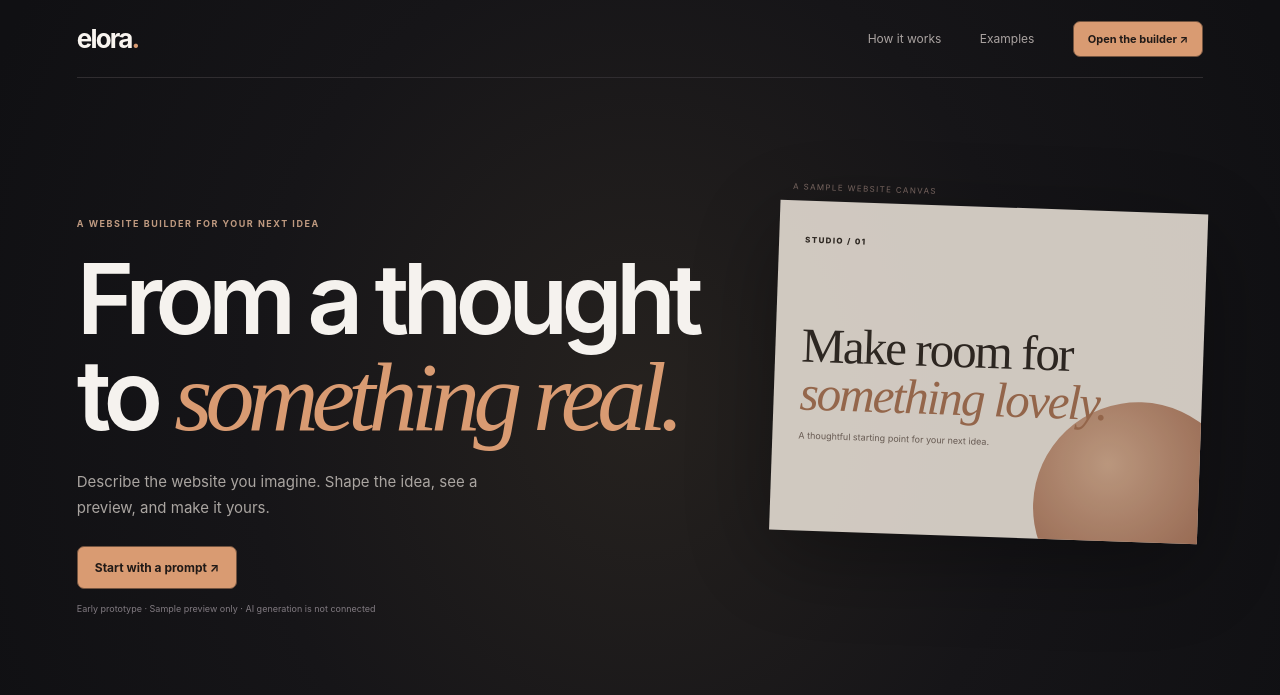
Test: builder prototype › shows an accessible error when the prompt is empty
The width and height of the screenshot is (1280, 695).
Click the button "Open the builder ↗" at coordinates (1138, 38), box [1073,20,1203,56]
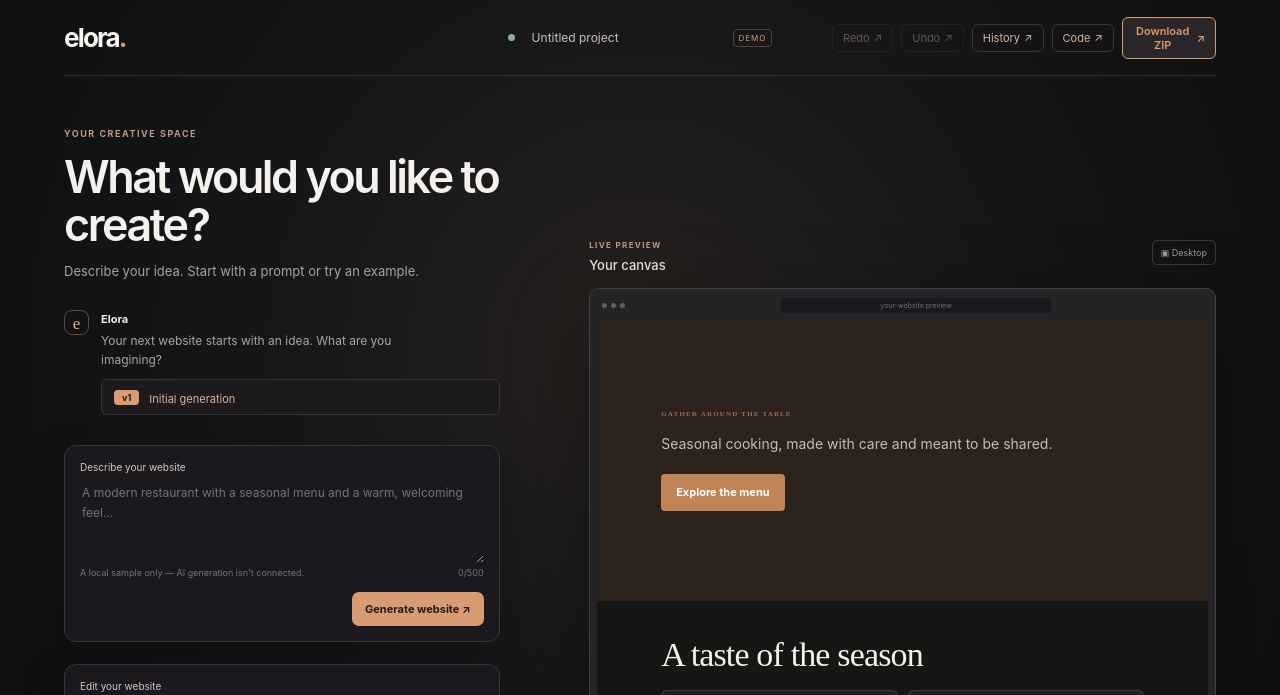
Click the button "Generate website ↗" at coordinates (418, 609), box [352,592,484,626]
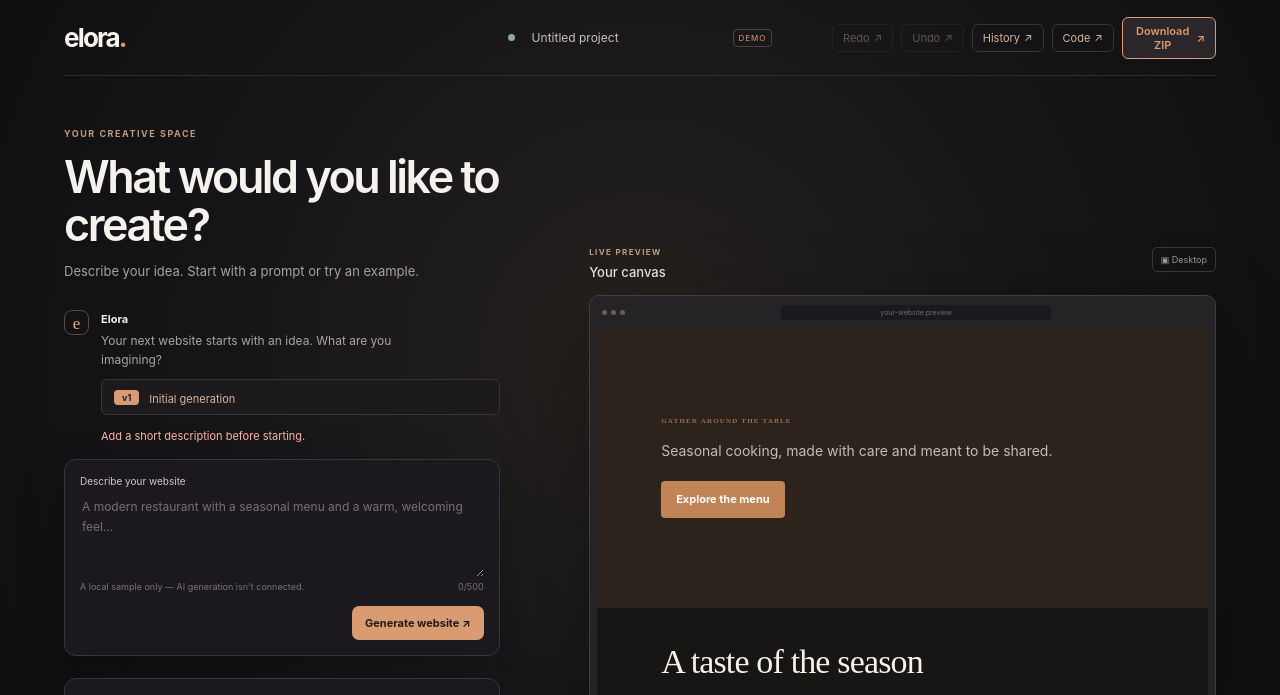
Result: the message shows "Add a short description" at [101,429,305,443]
